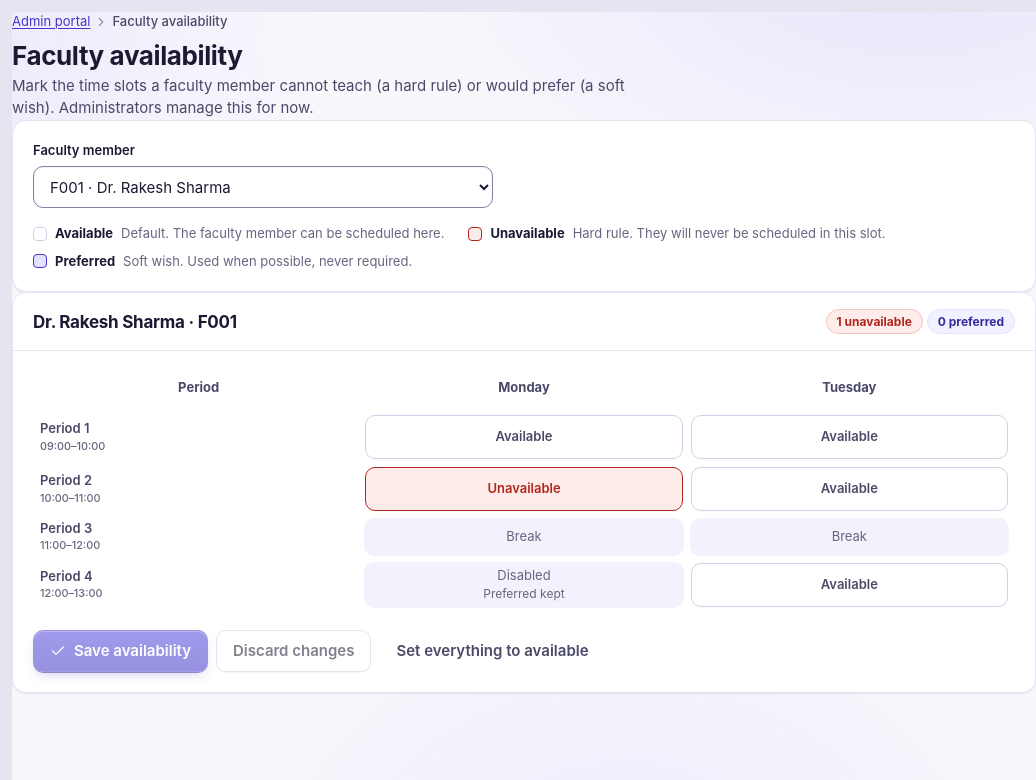
Test: Availability screen - editing (ISH-TC09..TC11) › each press cycles available -> unavailable -> preferred -> available and flags unsaved changes
The image size is (1036, 780).
Click the button with aria-label "Tuesday period 1," at (849, 437), box [691, 415, 1008, 459]
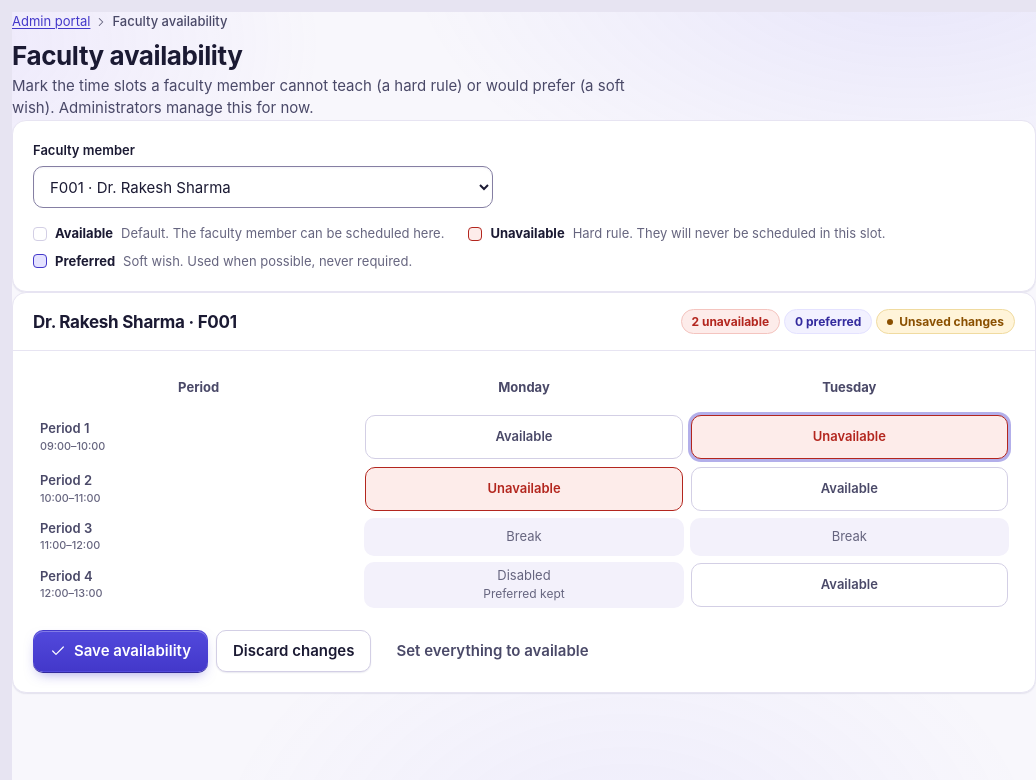
expect the button with aria-label "Tuesday period 1," reads "Unavailable": met
expect the text "Unsaved changes" is shown: met, box [876, 309, 1015, 334]
expect the text "2 unavailable" is shown: met, box [680, 309, 780, 334]
Click the button with aria-label "Tuesday period 1," at (849, 437), box [691, 415, 1008, 459]
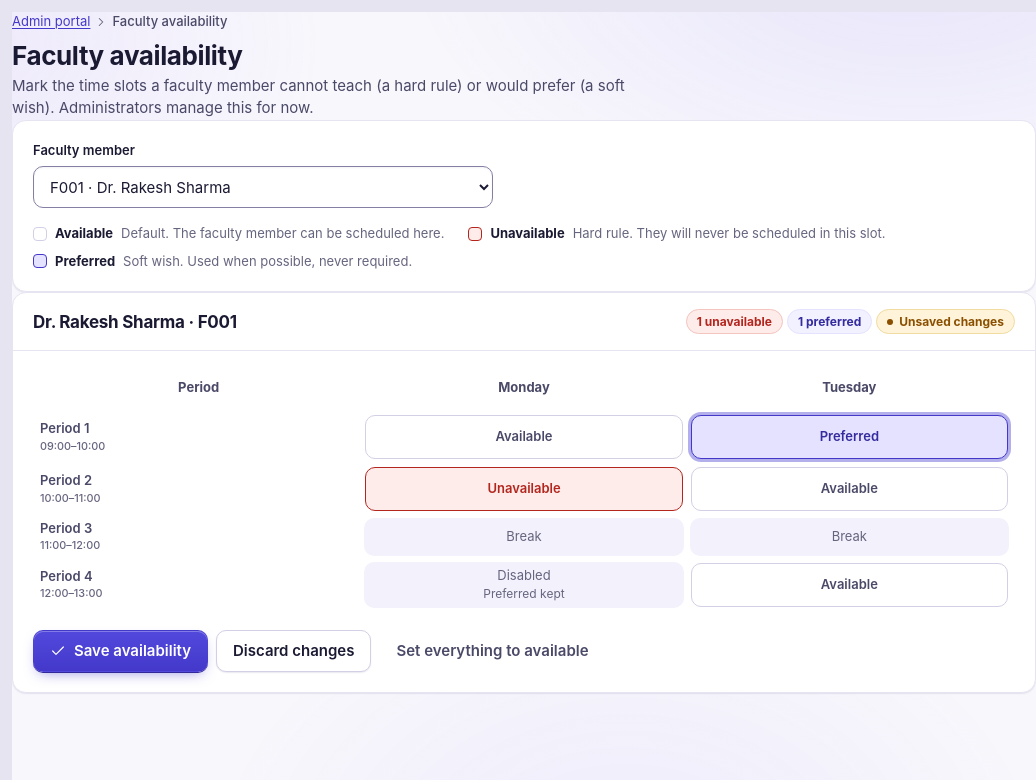
expect the button with aria-label "Tuesday period 1," reads "Preferred": met
expect the text "1 preferred" is shown: met, box [787, 309, 872, 334]
Click the button with aria-label "Tuesday period 1," at (849, 437), box [691, 415, 1008, 459]
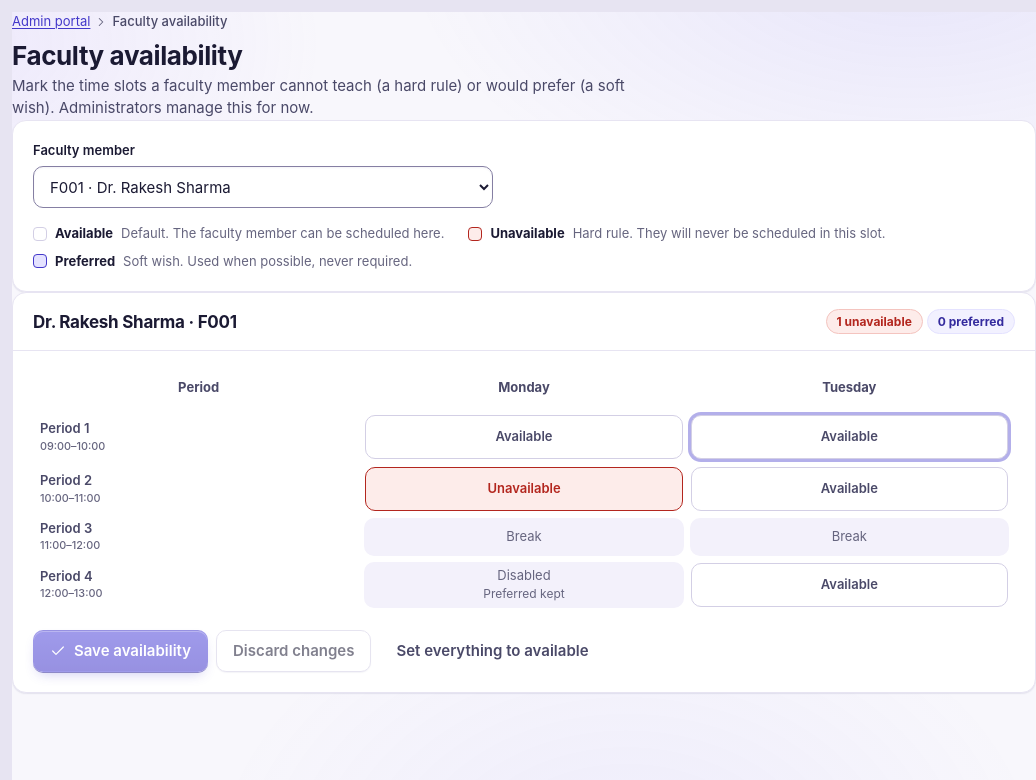
expect the button with aria-label "Tuesday period 1," reads "Available": met, box [691, 415, 1008, 459]
expect the text "Unsaved changes" is gone: met
